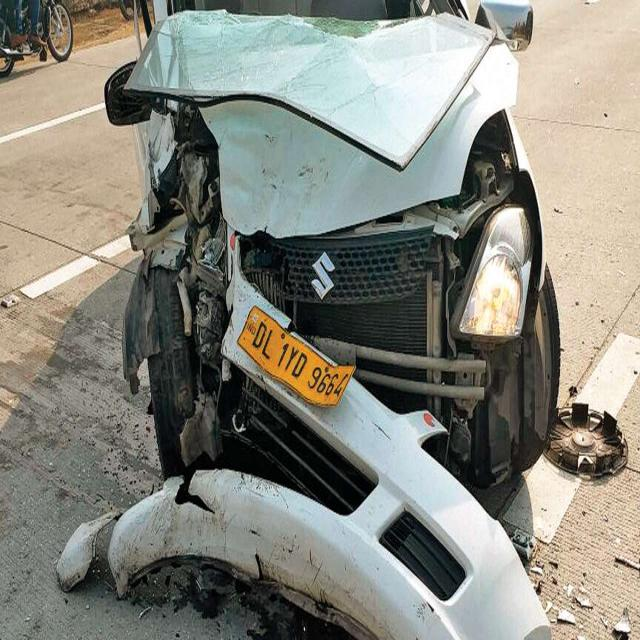crush: (56, 0, 552, 640)
